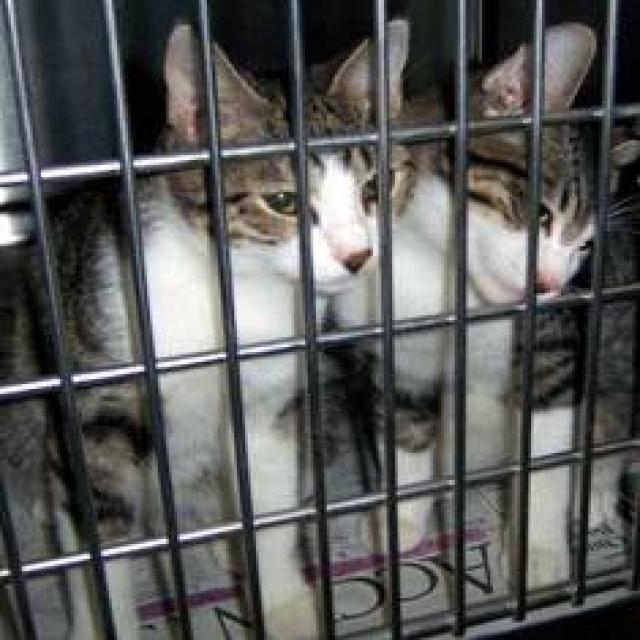cat: (0, 15, 417, 638)
